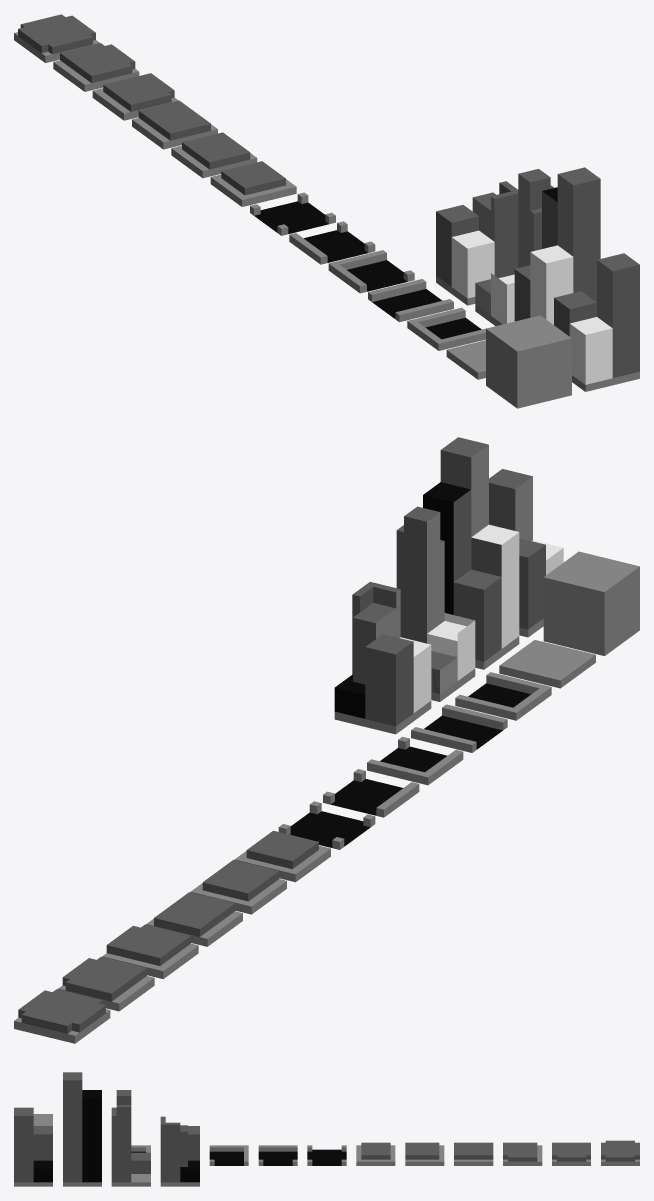
The model's file is CityMap.glb.
3 renders of one model, top to bottom at view 1: azimuth 30°, elevation 25°; view 2: azimuth 150°, elevation 25°; view 3: azimuth 270°, elevation 25°, orthographic. The views are drawn at different scales.
Parts seen in each view (by area): view 1: Building03-col, Building02-col, Building05-col, Building01-col, Building04-col, Road11-col, Road12-col, Road09-col, Road07-col, Road10-col, Road08-col, Road04-col (+5 smaller); view 2: Building03-col, Building05-col, Building04-col, Building01-col, Building02-col, Road12-col, Road10-col, Road11-col, Road09-col, Road08-col, Road01-col, Road07-col (+5 smaller); view 3: Building03-col, Building02-col, Building04-col, Building05-col, Road12-col, Road09-col, Road08-col, Road10-col, Road11-col, Road07-col, Road04-col, Road05-col (+2 smaller).
Boxes of the visible parts, x1,y1,x2,y2 form: Building03-col: [514, 167, 600, 324]; Building02-col: [554, 253, 639, 391]; Building05-col: [436, 181, 518, 305]; Building01-col: [486, 315, 571, 408]; Building04-col: [475, 169, 553, 326]; Road11-col: [53, 43, 139, 91]; Road12-col: [14, 14, 99, 62]; Road09-col: [132, 100, 217, 149]; Road07-col: [210, 161, 296, 206]; Road10-col: [92, 73, 178, 120]; Road08-col: [171, 132, 257, 178]; Road04-col: [328, 250, 414, 293]; Building03-col: [423, 437, 519, 669]; Building05-col: [334, 582, 431, 734]; Building04-col: [396, 506, 475, 701]; Building01-col: [543, 551, 639, 655]; Building02-col: [489, 469, 563, 637]; Road12-col: [14, 989, 110, 1043]; Road10-col: [102, 924, 198, 979]; Road11-col: [58, 956, 154, 1011]; Road09-col: [146, 892, 242, 946]; Road08-col: [190, 860, 286, 914]; Road01-col: [499, 640, 595, 688]; Road07-col: [234, 830, 330, 882]; Building03-col: [63, 1072, 101, 1186]; Building02-col: [14, 1107, 52, 1186]; Building04-col: [111, 1090, 150, 1186]; Building05-col: [160, 1116, 199, 1186]; Road12-col: [601, 1140, 639, 1165]; Road09-col: [454, 1142, 493, 1165]; Road08-col: [405, 1142, 444, 1165]; Road10-col: [503, 1142, 542, 1165]; Road11-col: [552, 1142, 590, 1165]; Road07-col: [356, 1142, 395, 1165]; Road04-col: [209, 1145, 248, 1165]; Road05-col: [258, 1145, 297, 1165].
Bounding box in the file's own units: 9 × 12 × 64.
Materials: 1 (1 with a texture image).
